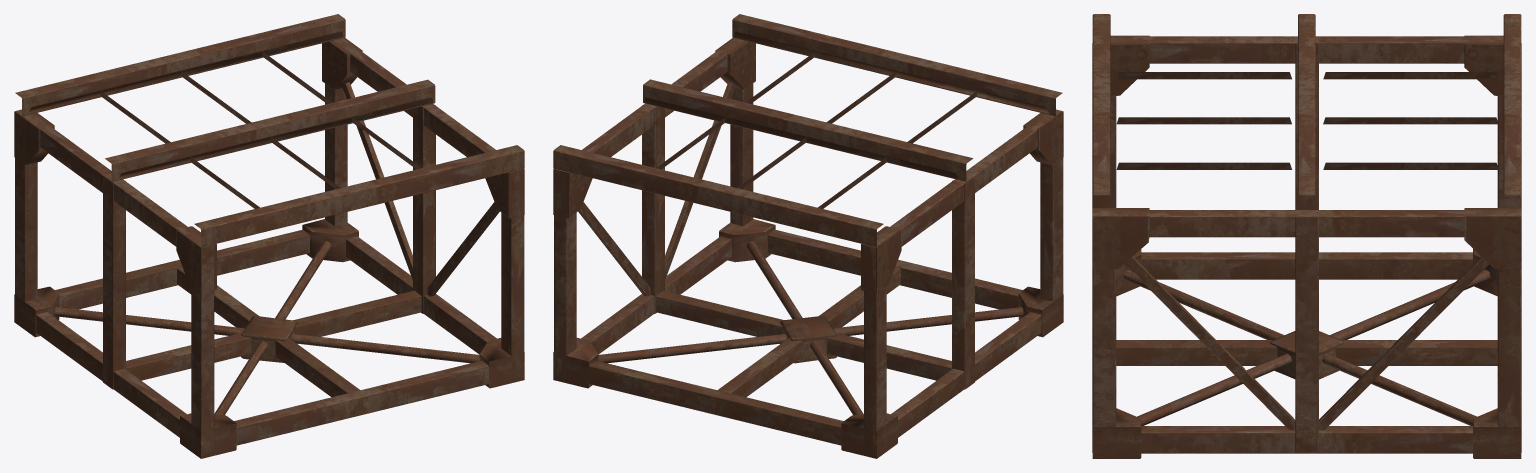
The model's file is rocket_factory_ceiling_support_a.glb.
The picture shows the model from 3 angles, left to right: view 1: azimuth 30°, elevation 25°; view 2: azimuth 150°, elevation 25°; view 3: azimuth 270°, elevation 25°; orthographic projection. The views are drawn at different scales.
Parts seen in each view (by area): view 1: rocket_factory_ceiling_support_a_LOD0; view 2: rocket_factory_ceiling_support_a_LOD0; view 3: rocket_factory_ceiling_support_a_LOD0.
Part boxes in pixels (bbox=[...]): rocket_factory_ceiling_support_a_LOD0: bbox=[14, 14, 524, 458]; rocket_factory_ceiling_support_a_LOD0: bbox=[553, 14, 1063, 458]; rocket_factory_ceiling_support_a_LOD0: bbox=[1092, 14, 1521, 458].
Size of the model in its own units: 9 by 6.14 by 9.
Materials: 1 (1 with a texture image).
